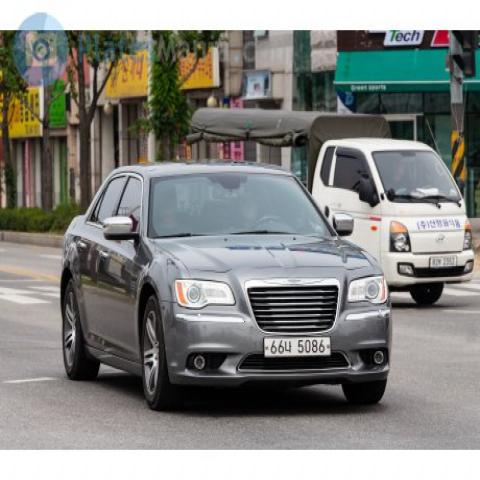LP: (258, 331, 338, 362), (426, 250, 460, 272)
